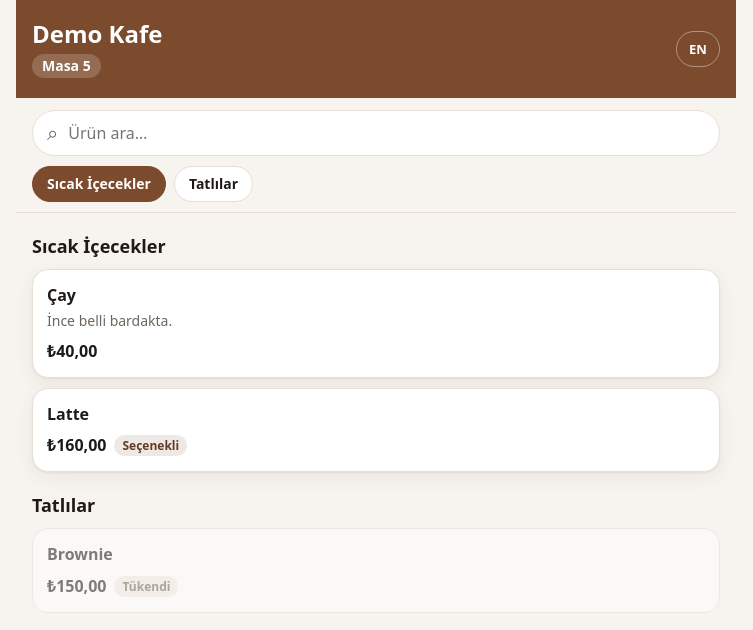
MenuPage › searches ignoring Turkish letters and shows a message when nothing matches
Expected: the heading "Demo Kafe" is shown, top-left (32, 17), bottom-right (162, 50)
In the search field named "Menüde ara": x=390, y=133 top-left (66, 111), bottom-right (713, 155), type "cay"
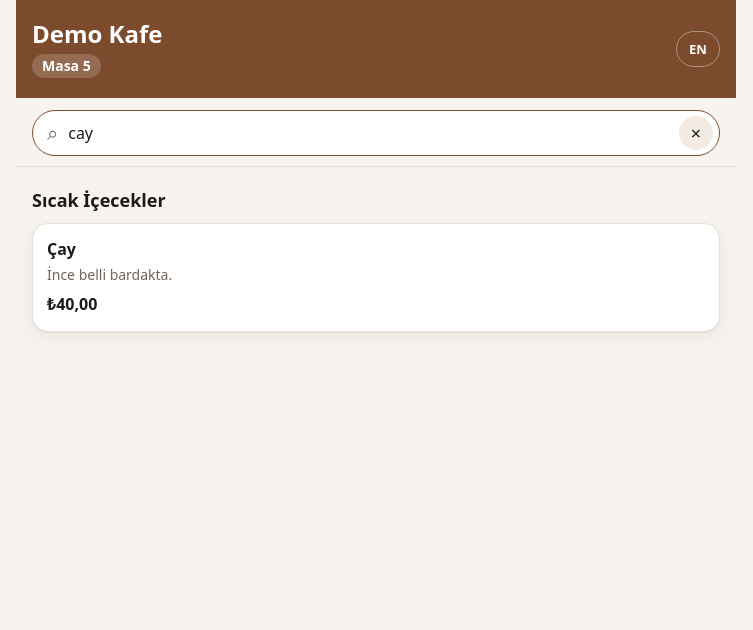
Expected: the button "Çay İnce belli bardakta. ₺40,00" is shown, top-left (32, 223), bottom-right (720, 332)
Expected: the button "Latte" is gone
Expected: the link "Tatlılar" is gone
Clear the search field named "Menüde ara": x=369, y=133 top-left (66, 111), bottom-right (671, 155)
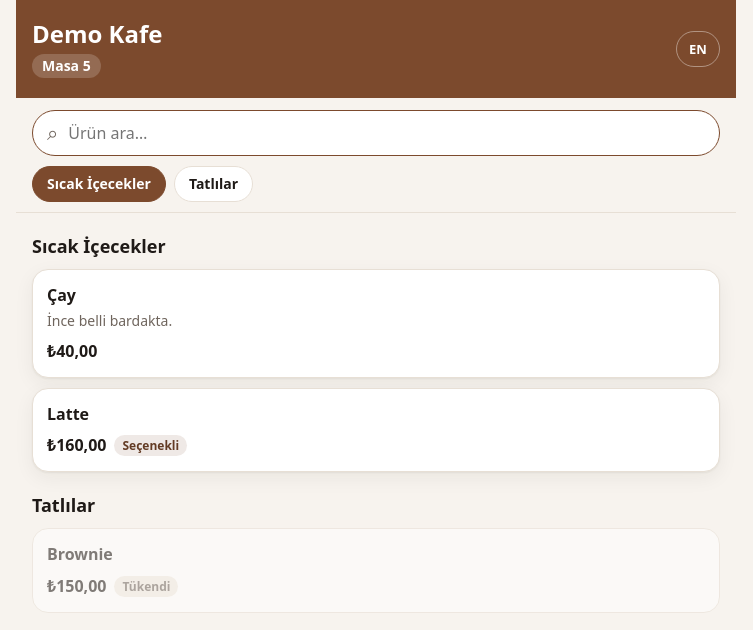
In the search field named "Menüde ara": x=390, y=133 top-left (66, 111), bottom-right (713, 155), type "pizza"
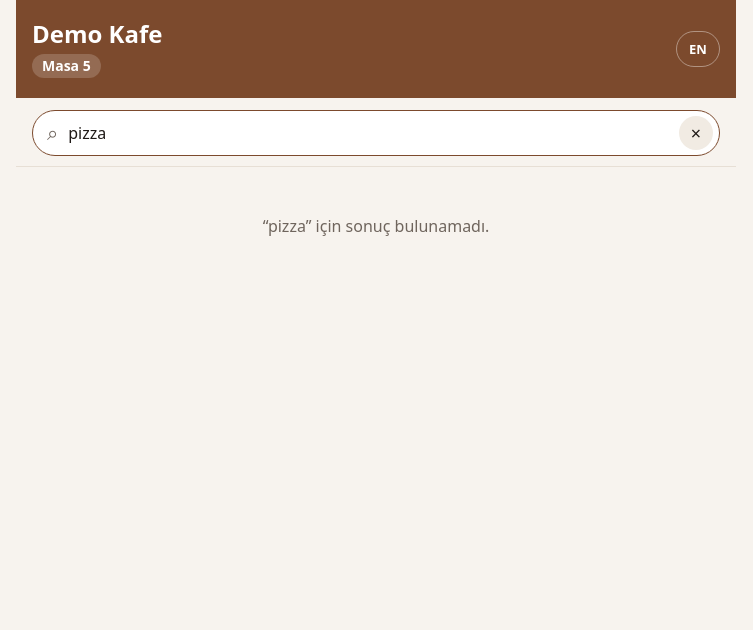
Expected: the text "“pizza” için sonuç bulunamadı." is shown, top-left (263, 215), bottom-right (489, 237)
